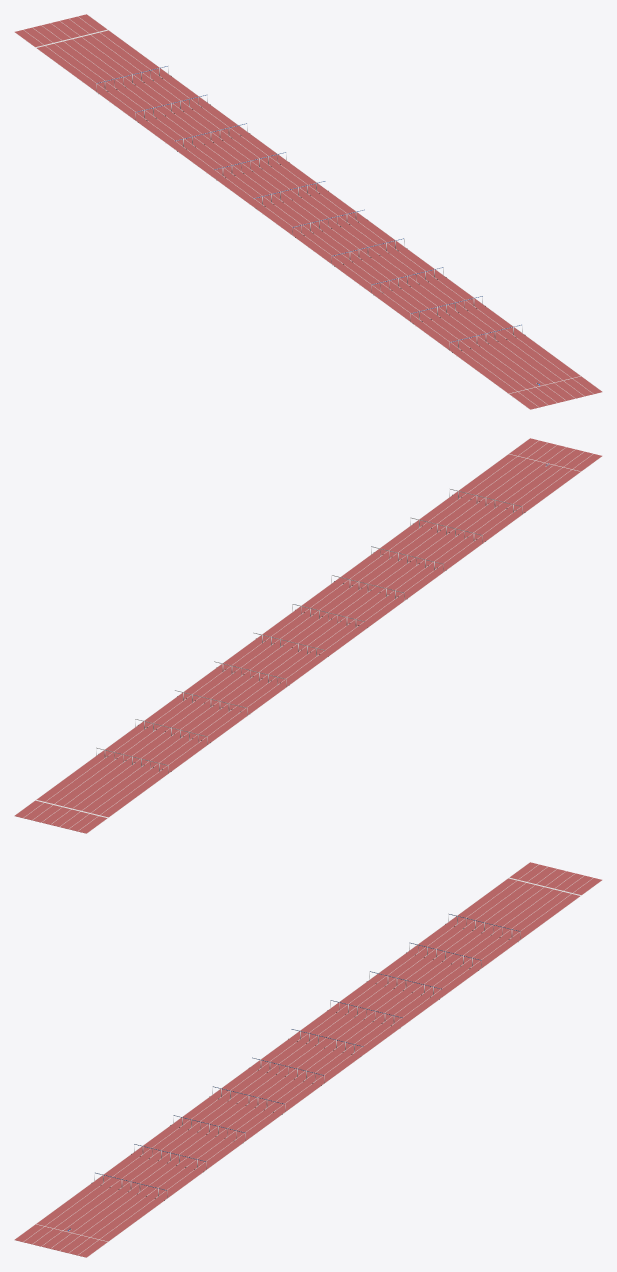
File:  Men's hurdles.glb
The picture shows the model from 3 angles, top to bottom: view 1: azimuth 30°, elevation 25°; view 2: azimuth 150°, elevation 25°; view 3: azimuth 330°, elevation 25°; orthographic projection.
Parts seen in each view (by area): view 1: MetaAthletics_110m_Base; view 2: MetaAthletics_110m_Base; view 3: MetaAthletics_110m_Base.
Part boxes in pixels (x1,y1,x2,y2): MetaAthletics_110m_Base: (15,14,601,409); MetaAthletics_110m_Base: (15,438,601,833); MetaAthletics_110m_Base: (15,862,601,1257).
Bounding box in the file's own units: 9.81 × 1.1 × 120.
